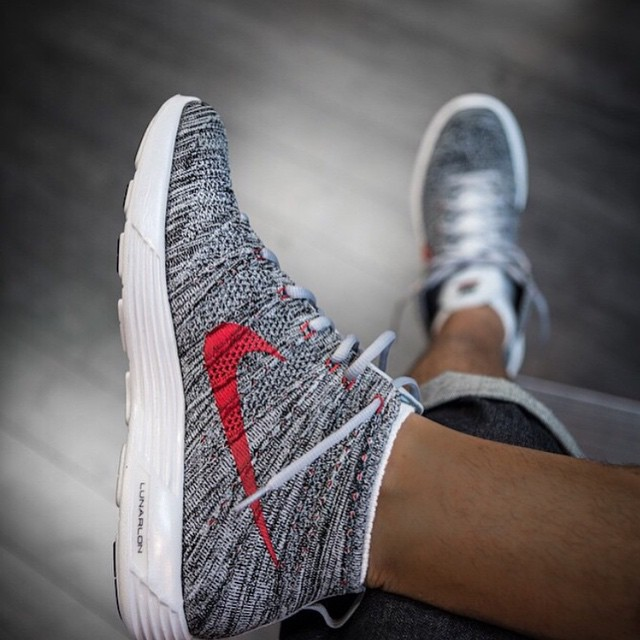sneaker: (76, 65, 444, 640), (397, 70, 550, 398)
